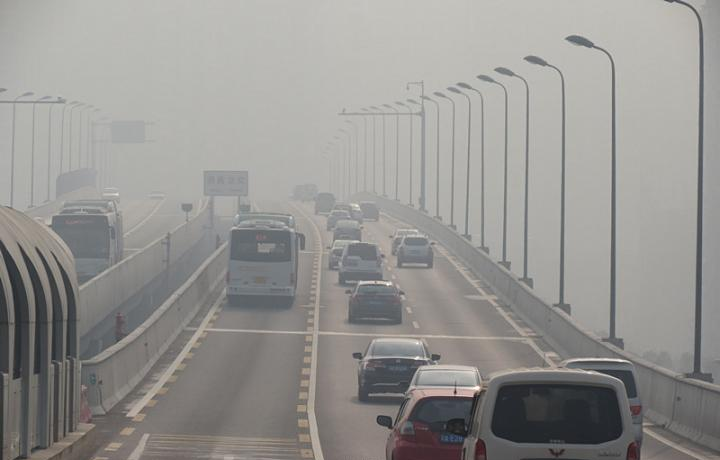bus: (226, 213, 303, 309), (42, 200, 122, 288)
car: (449, 363, 642, 460), (376, 384, 500, 460), (553, 356, 647, 456), (404, 360, 487, 445), (350, 337, 444, 401), (345, 279, 405, 327), (337, 240, 386, 289), (396, 233, 437, 270), (325, 239, 364, 271), (387, 228, 422, 257), (331, 219, 366, 246), (333, 203, 365, 227), (326, 209, 353, 233), (355, 199, 381, 223), (313, 192, 337, 216), (299, 181, 320, 204), (101, 185, 121, 204), (148, 188, 164, 202)
